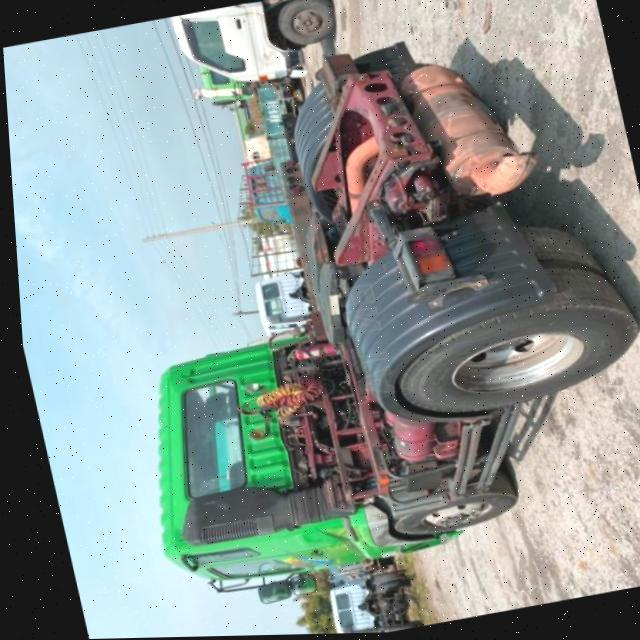truck: (51, 10, 640, 624), (214, 74, 330, 234), (292, 560, 426, 636)
